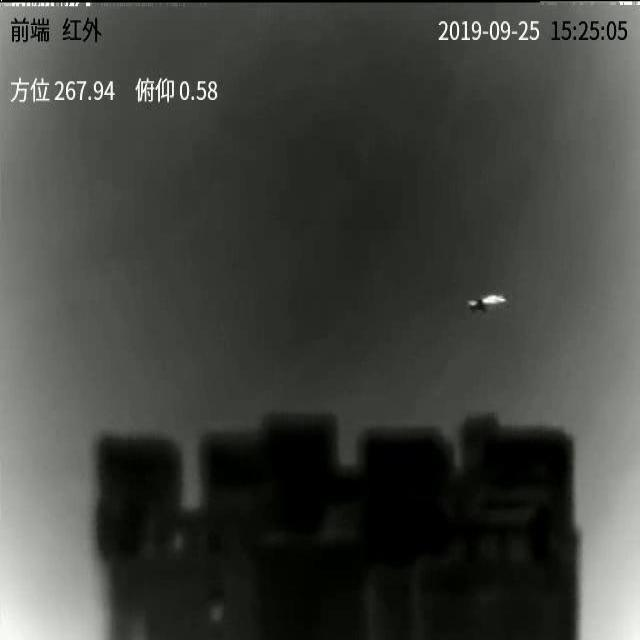drone: (465, 294, 506, 313)
